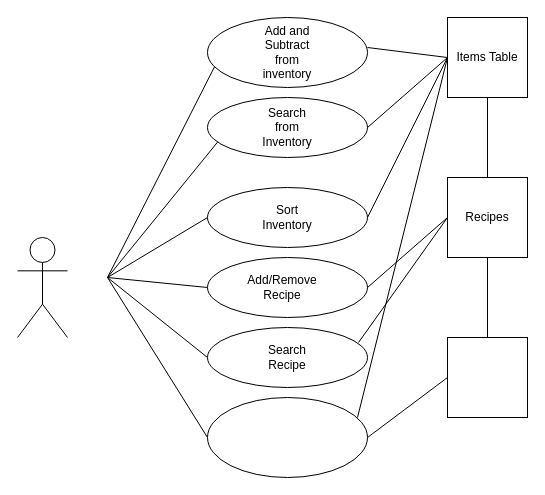
The diagram is 545 pixels wide and 495 high, and some of its shapes have lost their labels. Each missing label, with the box of its shape:
Actor: (16, 236, 68, 338)
Check and add Recipe ingredients with Inventory: (206, 396, 368, 478)
Grocery List: (446, 336, 528, 418)
